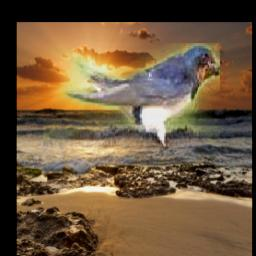Swallow: (43, 44, 220, 148)
